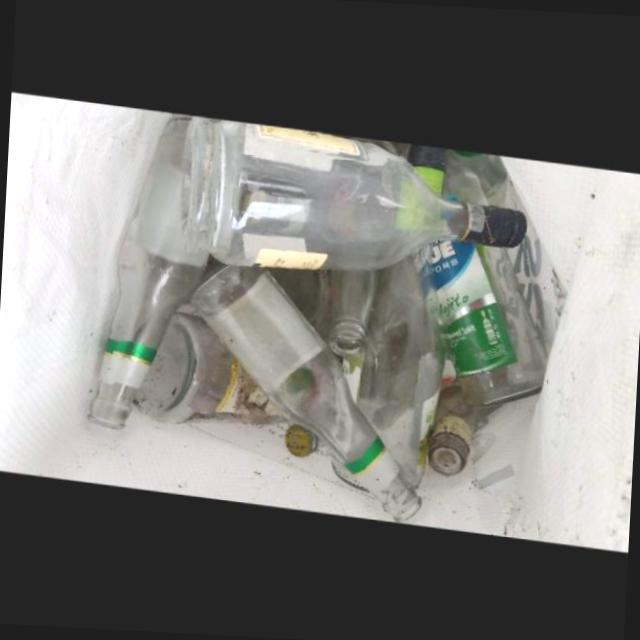chai_thuy_tinh: (192, 267, 423, 523), (182, 116, 529, 272), (88, 119, 208, 444), (343, 244, 443, 491), (433, 241, 548, 407), (134, 310, 286, 427), (429, 360, 477, 476), (327, 270, 385, 359)
